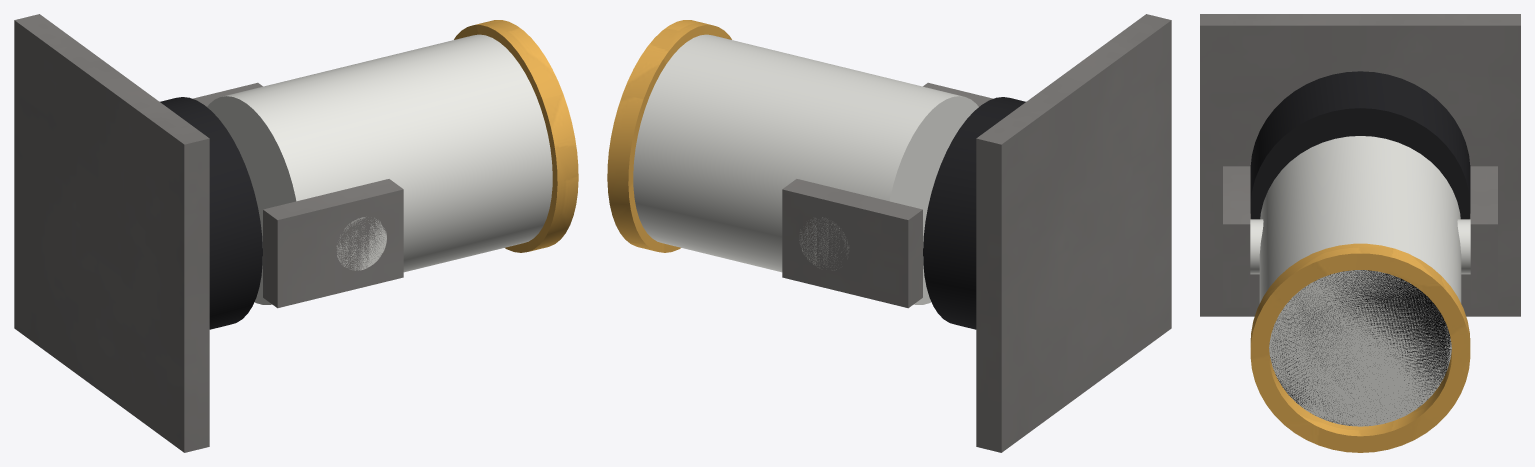
The model's file is power17_optical_comms.glb.
3 views of the same model, side by side, from view 1: azimuth 30°, elevation 25°; view 2: azimuth 150°, elevation 25°; view 3: azimuth 270°, elevation 25° (orthographic). The views are drawn at different scales.
Parts seen in each view (by area): view 1: base_plate, telescope, fork, azimuth_drive, sunshade; view 2: base_plate, telescope, fork, azimuth_drive, sunshade; view 3: telescope, base_plate, azimuth_drive, sunshade, aperture, fork.
Part boxes in pixels (x1,y1,x2,y2): base_plate: (14,14,209,452); telescope: (207,34,552,304); fork: (193,82,403,308); azimuth_drive: (160,97,262,329); sunshade: (454,20,578,252); base_plate: (976,14,1171,452); telescope: (633,34,978,304); fork: (782,82,992,308); azimuth_drive: (923,97,1025,329); sunshade: (607,20,731,252); telescope: (1250,136,1470,426); base_plate: (1200,14,1520,316); azimuth_drive: (1250,71,1470,219); sunshade: (1250,243,1470,452); aperture: (1270,270,1451,425); fork: (1223,166,1497,307).
Size of the model in its own units: 0.5 by 0.35 by 0.35.
5 materials, 2 textured.
